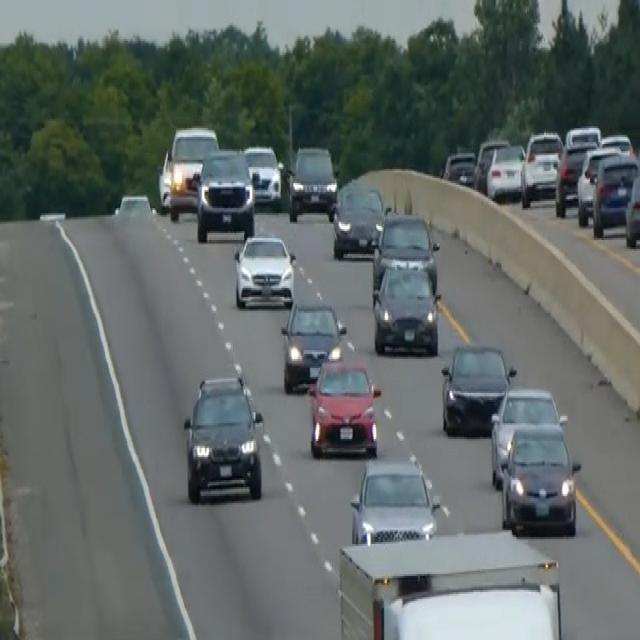bus: (335, 526, 566, 638)
car: (500, 420, 581, 535), (305, 352, 381, 459), (349, 455, 440, 544), (489, 384, 566, 487), (440, 340, 514, 436), (372, 258, 441, 356), (280, 297, 346, 393), (195, 146, 256, 242), (372, 208, 439, 293), (232, 231, 296, 309), (165, 124, 218, 218), (554, 126, 600, 217), (591, 151, 639, 238), (331, 180, 384, 258), (287, 142, 337, 220), (576, 144, 621, 226), (520, 128, 563, 206), (242, 142, 283, 208), (485, 140, 525, 201), (473, 135, 509, 192), (442, 148, 476, 186), (113, 190, 153, 222), (624, 169, 639, 247), (598, 130, 634, 158), (564, 122, 601, 148), (157, 148, 172, 210)
jeep: (181, 370, 265, 505)
